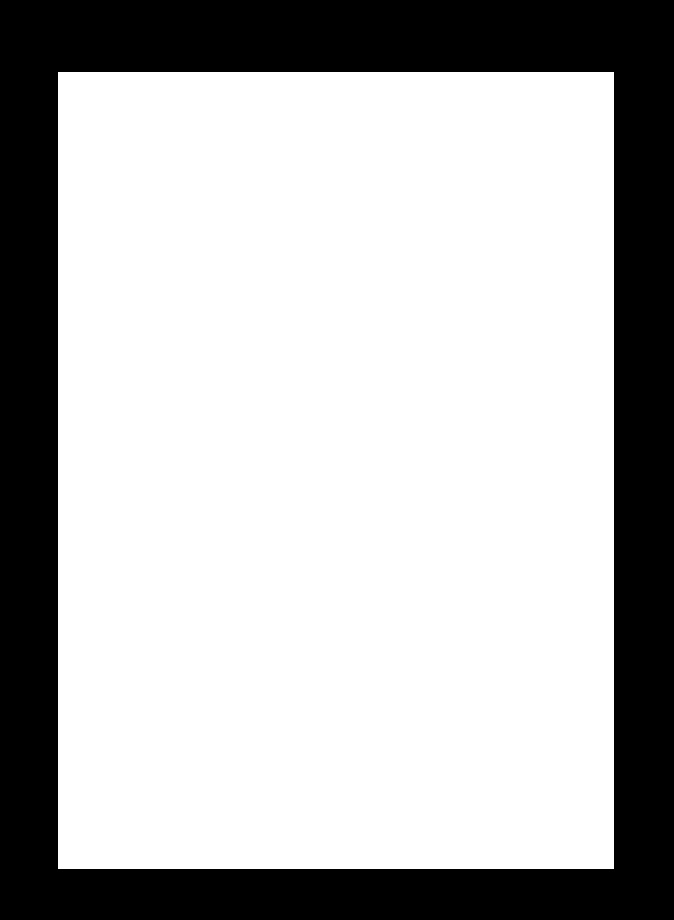table: (58, 72, 613, 868)
